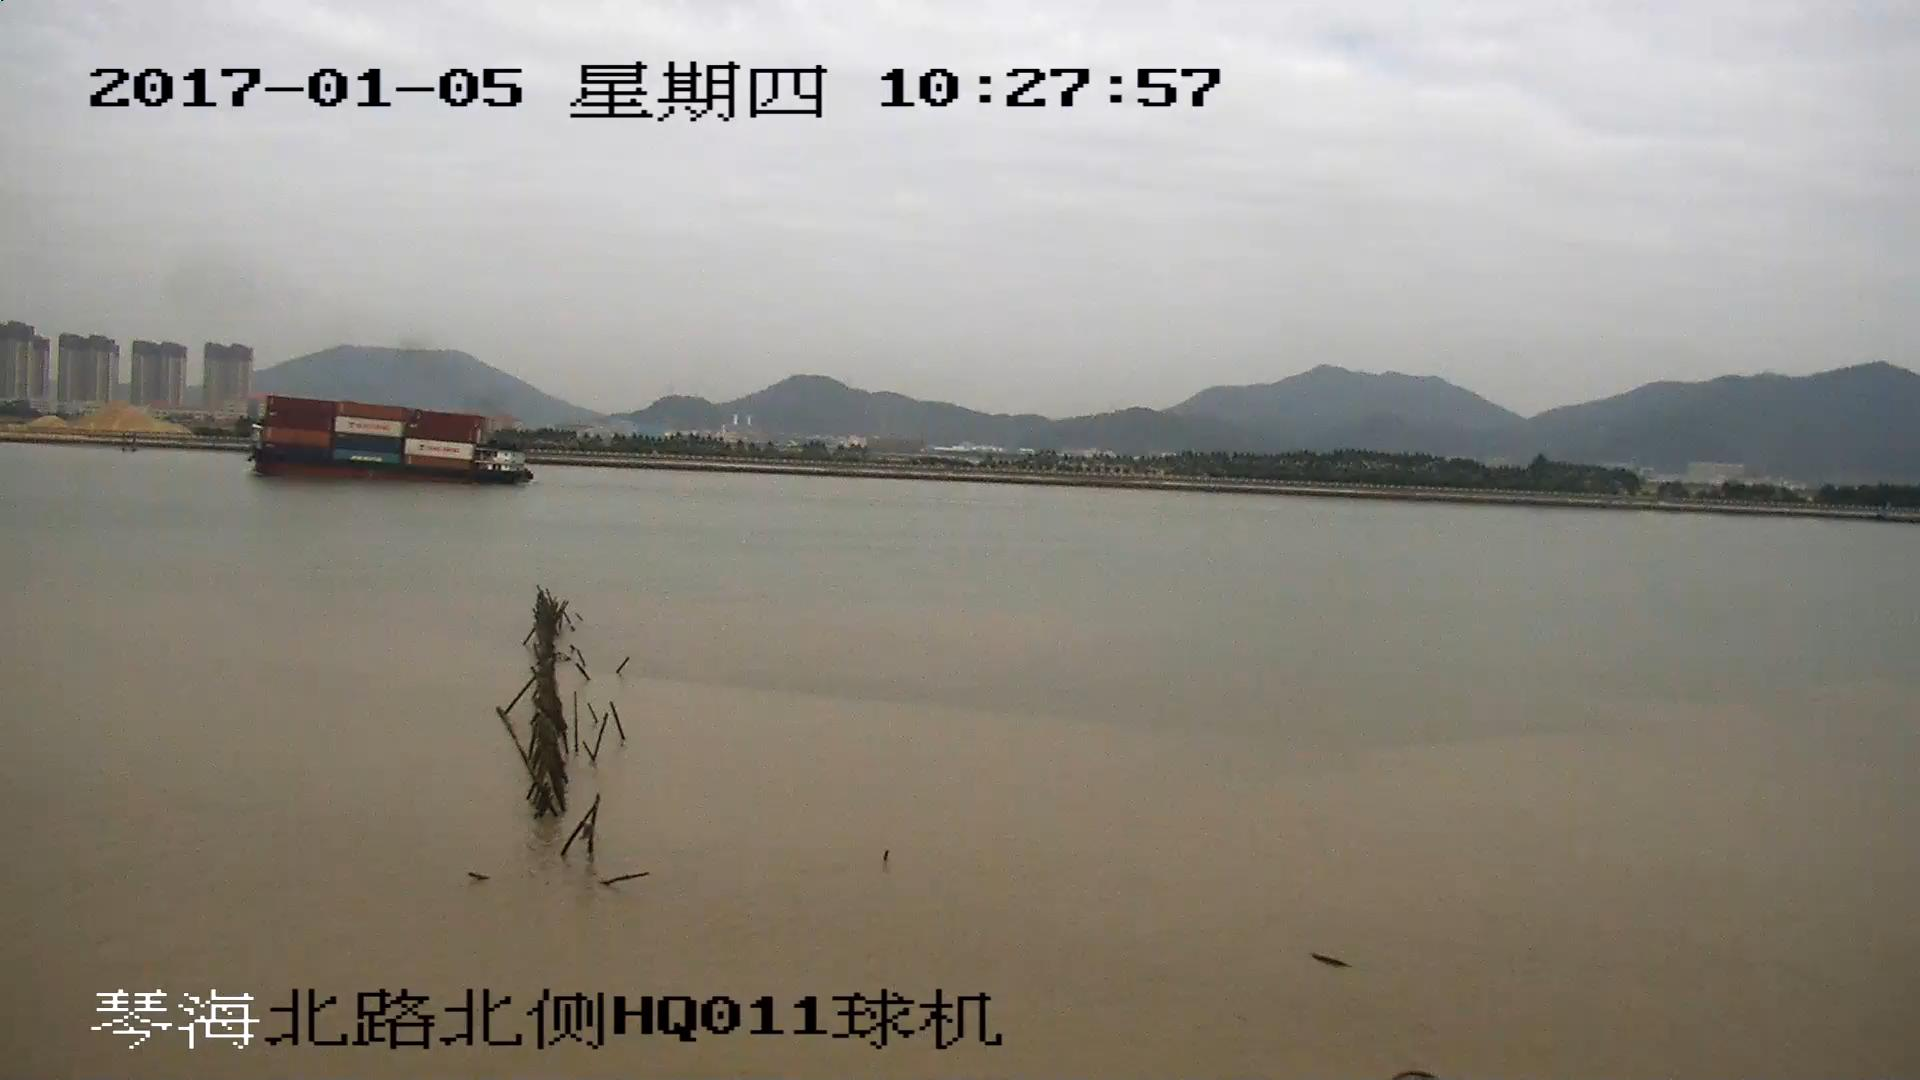container ship: (245, 395, 528, 482)
